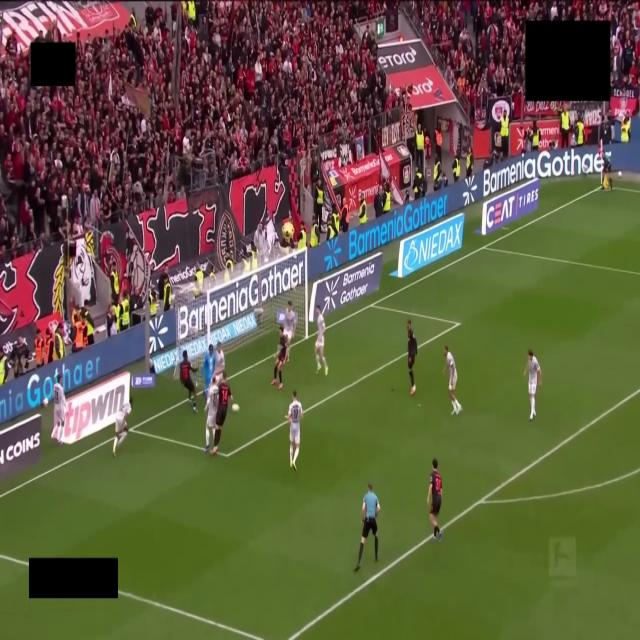ball: (232, 403, 240, 412)
player: (211, 372, 232, 455), (286, 391, 302, 470), (524, 350, 541, 420), (444, 346, 461, 415), (113, 399, 132, 457), (428, 458, 441, 539), (180, 351, 197, 412), (52, 374, 67, 442), (204, 380, 218, 452), (272, 326, 287, 389), (315, 305, 328, 375), (201, 344, 215, 401), (407, 320, 417, 395), (284, 301, 296, 361), (214, 342, 225, 383)
referee: (355, 484, 380, 571)
